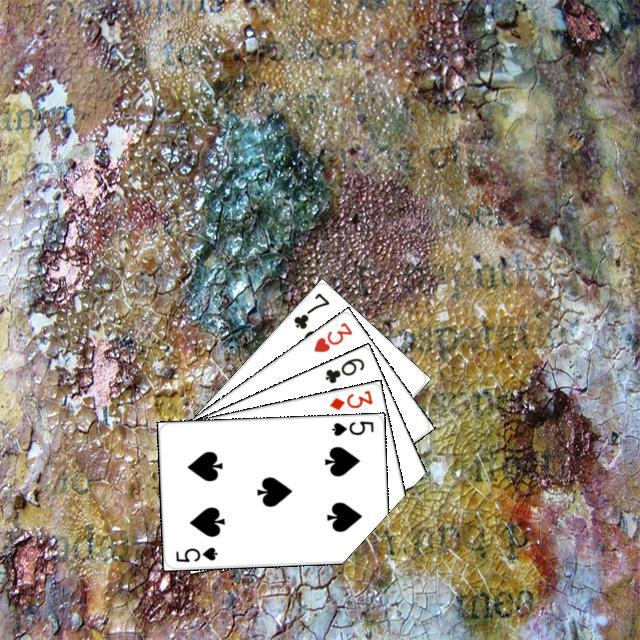3d: (325, 385, 374, 412)
3h: (309, 317, 354, 354)
5s: (171, 542, 219, 564), (327, 416, 375, 437)
6c: (320, 353, 366, 385)
7c: (289, 288, 331, 331)
